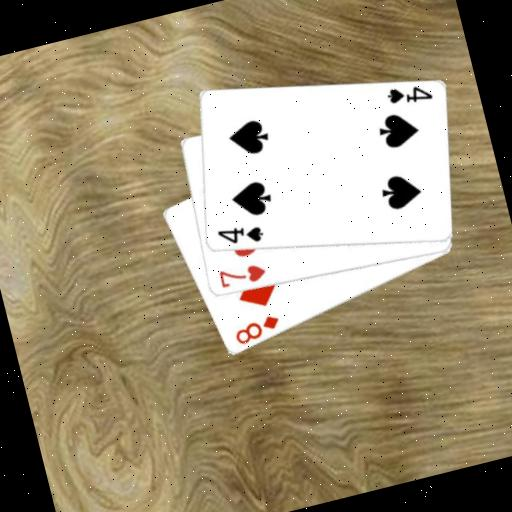4S: (213, 218, 267, 254), (382, 77, 435, 112)
7H: (214, 257, 269, 292)
8D: (229, 311, 285, 349)
